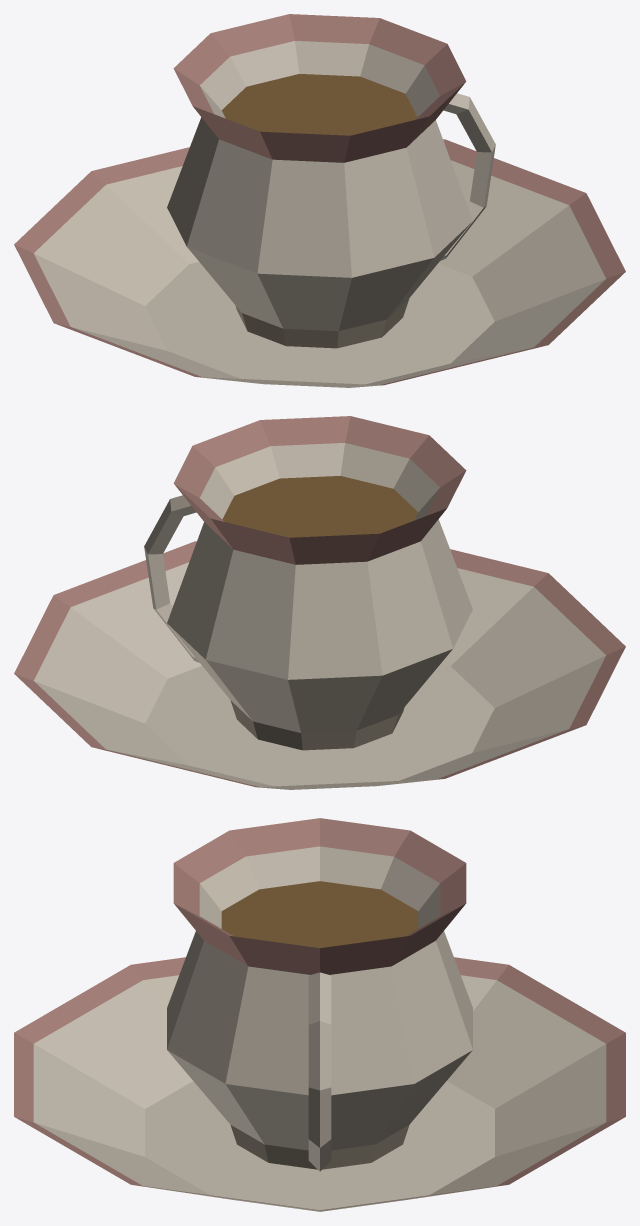
Rendered from temple_bell.glb.
3 renders of one model, top to bottom at view 1: azimuth 30°, elevation 25°; view 2: azimuth 150°, elevation 25°; view 3: azimuth 270°, elevation 25°, orthographic. The views are drawn at different scales.
Parts seen in each view (by area): view 1: 704-teacup-and-saucer; view 2: 704-teacup-and-saucer; view 3: 704-teacup-and-saucer.
Boxes of the visible parts, x1,y1,x2,y2 form: 704-teacup-and-saucer: (14,14,625,387); 704-teacup-and-saucer: (14,416,625,789); 704-teacup-and-saucer: (14,818,625,1211).
Bounding box in the file's own units: 0.14 × 0.064 × 0.1331.
